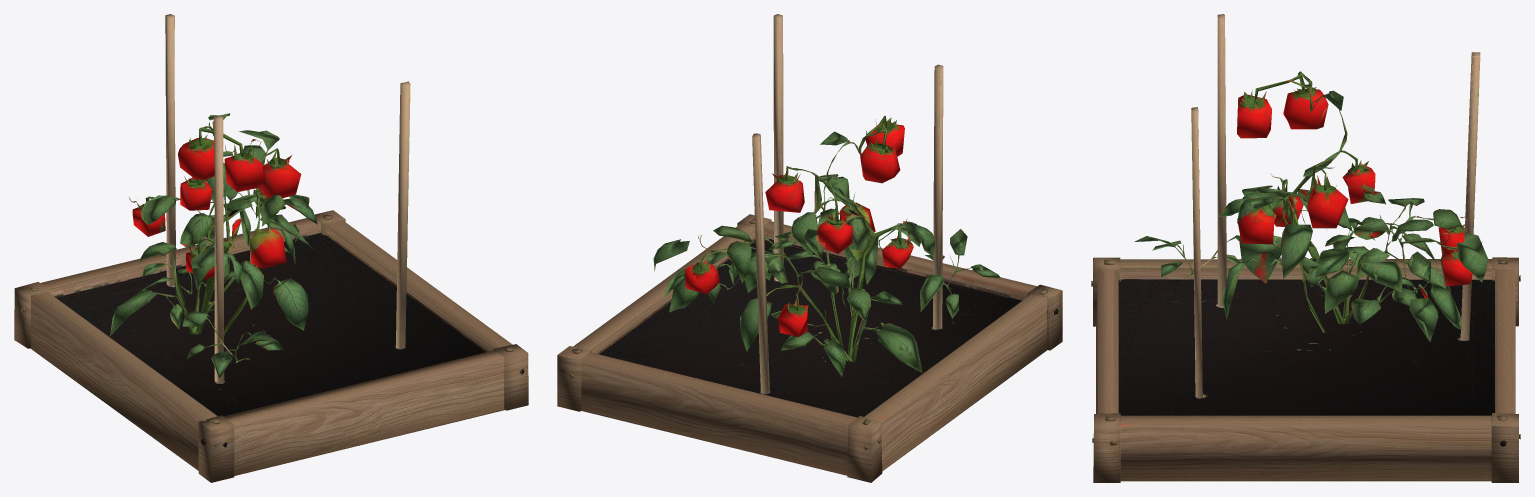
The model's file is tomato_garden.glb.
3 views of the same model, side by side, from view 1: azimuth 30°, elevation 25°; view 2: azimuth 150°, elevation 25°; view 3: azimuth 270°, elevation 25° (orthographic). The views are drawn at different scales.
Bounding box in the file's own units: 0.8901 × 0.8155 × 0.9517.
1 material, 1 textured.
